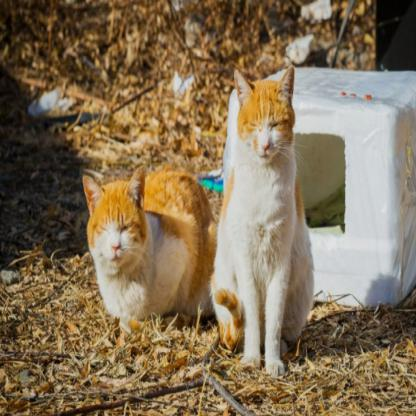cat: (213, 38, 317, 380), (70, 150, 228, 326)
